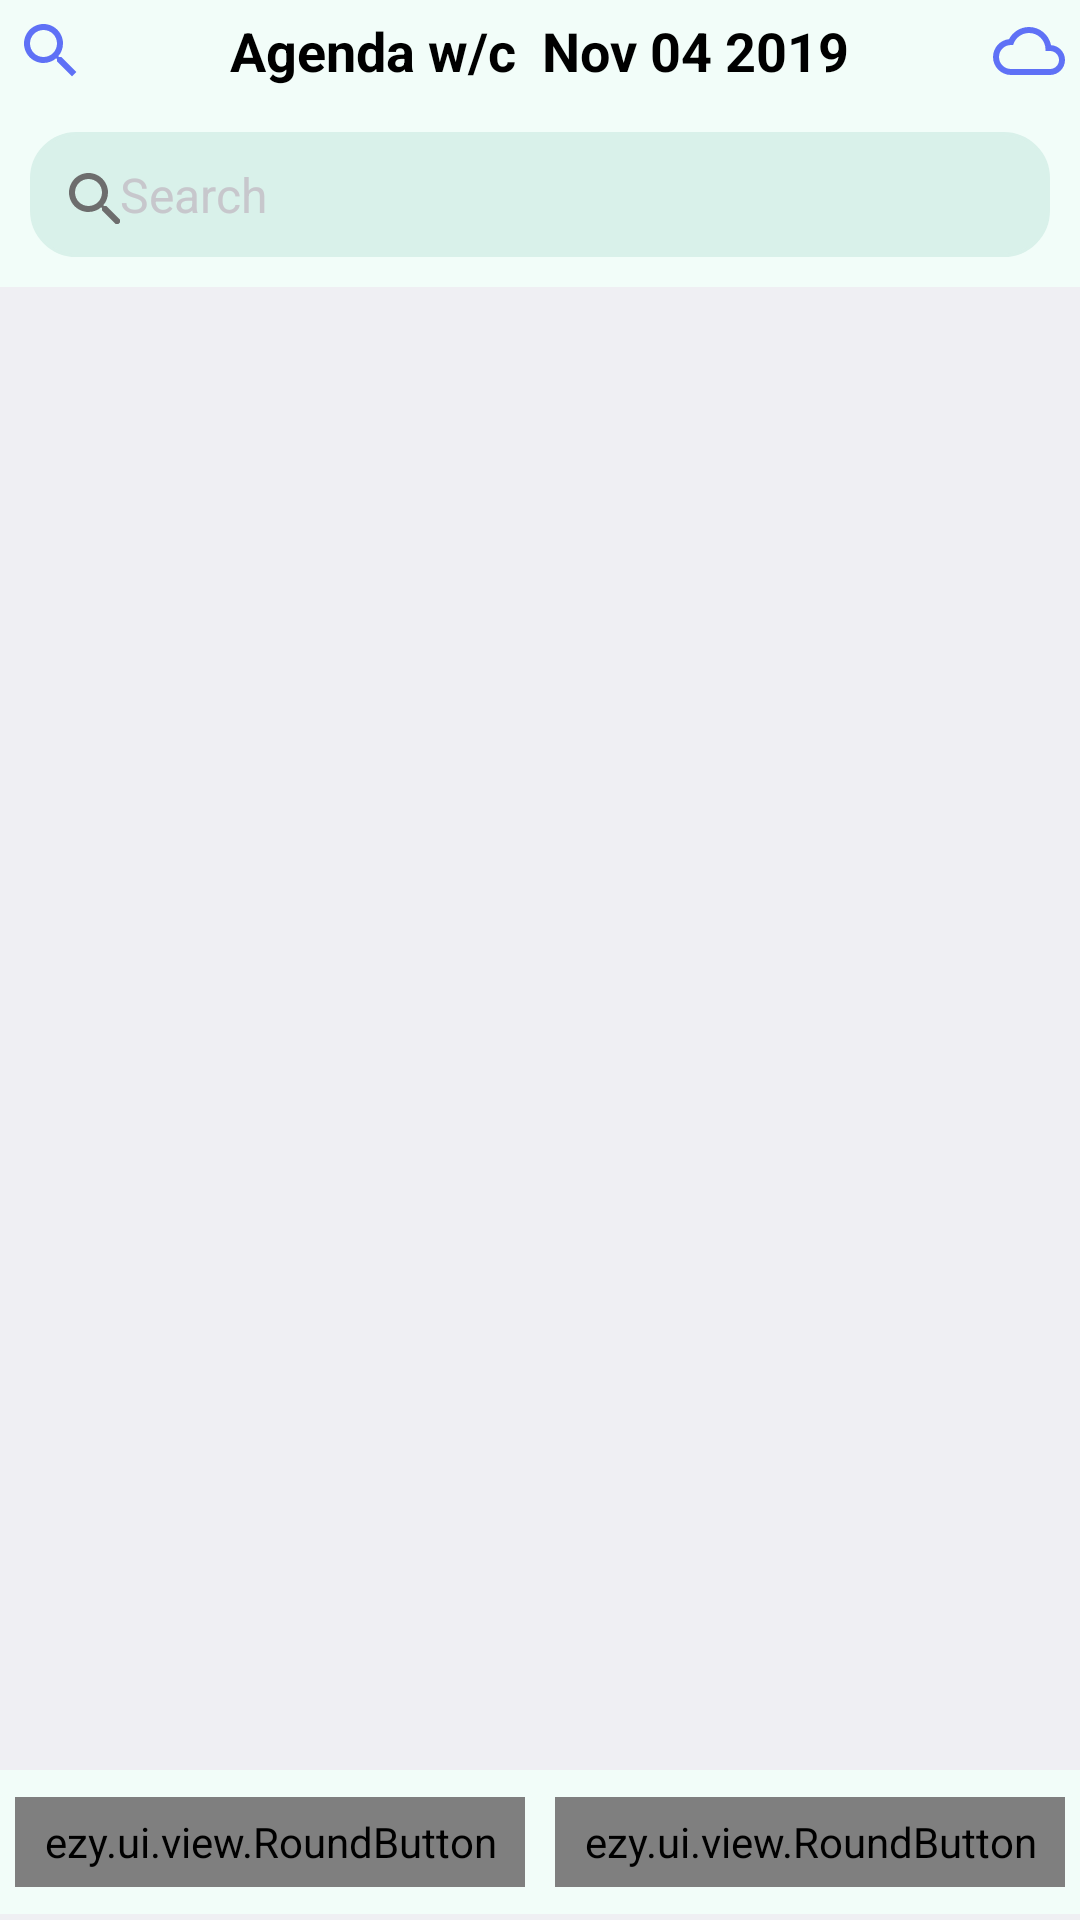

Icons on this 1080 x 1920 Android screen, each with the point to tap as [x,y]:
cloud: [1029,51]
